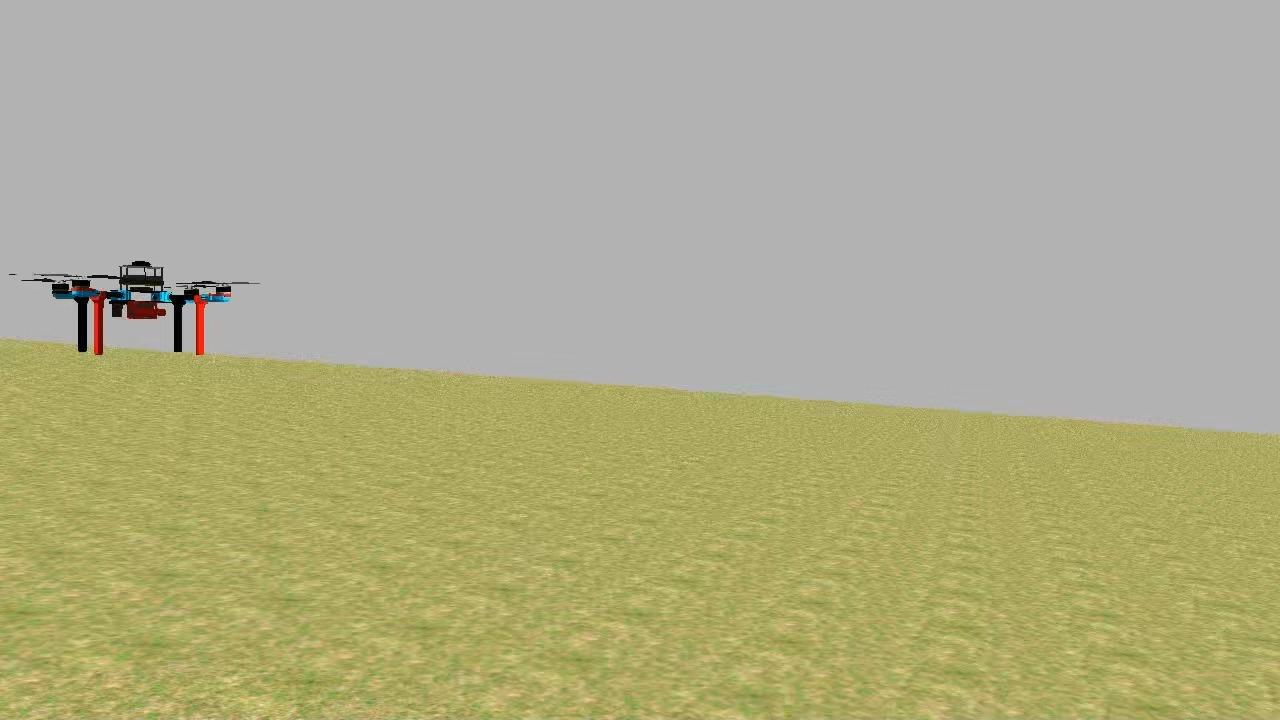UAV: (50, 254, 240, 368)
